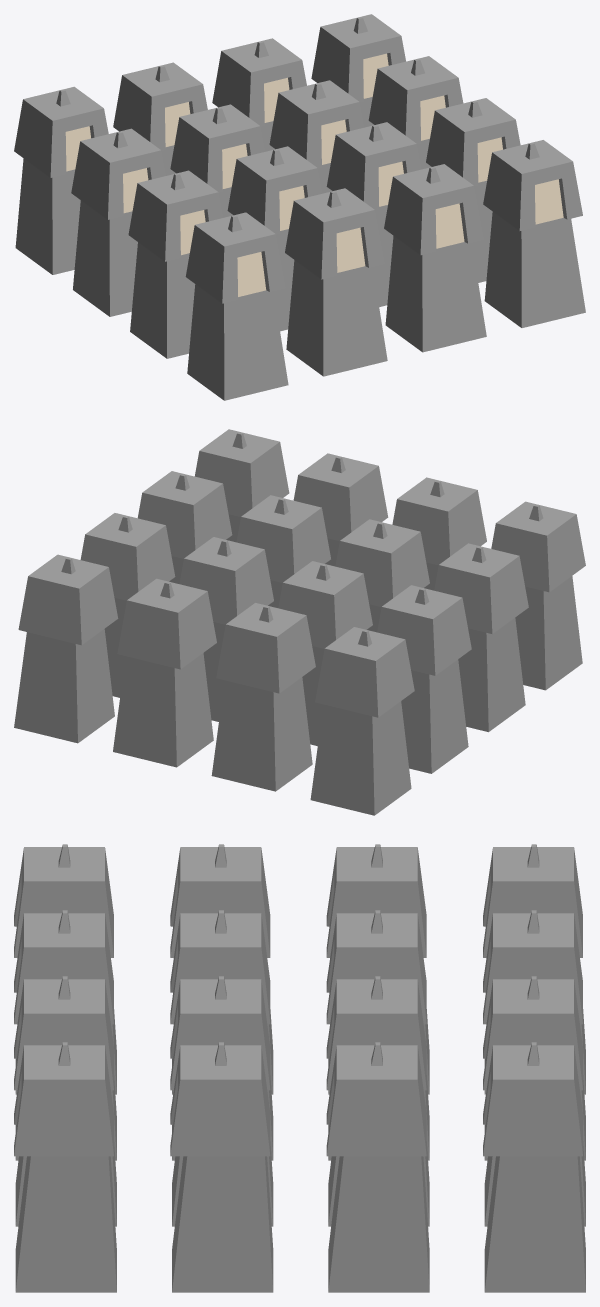
Rendered from infantry without flag.fbx.
3 renders of one model, top to bottom at view 1: azimuth 30°, elevation 25°; view 2: azimuth 150°, elevation 25°; view 3: azimuth 270°, elevation 25°, orthographic. The views are drawn at different scales.
Parts seen in each view (by area): view 1: Group12, Group3, Group6, Group9, Group4, Group7, Group10, Group13, Group38, Group63, Group88, Group62 (+14 smaller); view 2: Group78, Group87, Group81, Group84, Group79, Group82, Group85, Group88, Group13, Group38, Group63, Group12 (+14 smaller); view 3: Group59, Group34, Group84, Group9, Group35, Group60, Group10, Group85, Group29, Group32, Group38, Group54 (+12 smaller).
Boxes of the visible parts, <box> form: Group12: <box>187,284,288,400</box>; Group3: <box>286,260,387,376</box>; Group6: <box>385,236,486,352</box>; Group9: <box>484,212,585,327</box>; Group4: <box>285,188,384,279</box>; Group7: <box>384,164,483,255</box>; Group10: <box>483,140,582,230</box>; Group13: <box>185,212,285,303</box>; Group38: <box>128,170,223,261</box>; Group63: <box>71,128,165,219</box>; Group88: <box>14,86,108,177</box>; Group62: <box>73,200,137,316</box>; Group78: <box>211,677,312,791</box>; Group87: <box>310,701,411,815</box>; Group81: <box>113,653,213,767</box>; Group84: <box>14,629,114,743</box>; Group79: <box>216,603,315,693</box>; Group82: <box>117,578,216,669</box>; Group85: <box>18,554,118,645</box>; Group88: <box>315,627,414,717</box>; Group13: <box>491,501,585,592</box>; Group38: <box>434,543,528,634</box>; Group63: <box>377,585,471,675</box>; Group12: <box>515,576,582,690</box>; Group59: <box>328,1156,429,1292</box>; Group34: <box>172,1156,273,1292</box>; Group84: <box>484,1156,585,1292</box>; Group9: <box>15,1156,116,1292</box>; Group35: <box>170,1042,270,1156</box>; Group60: <box>326,1042,426,1156</box>; Group10: <box>14,1042,113,1156</box>; Group85: <box>483,1042,582,1156</box>; Group29: <box>170,910,270,1024</box>; Group32: <box>170,976,270,1090</box>; Group38: <box>170,844,270,957</box>; Group54: <box>326,910,426,1024</box>.
Bounding box in the file's own units: 4.59 × 1.98 × 4.57.
